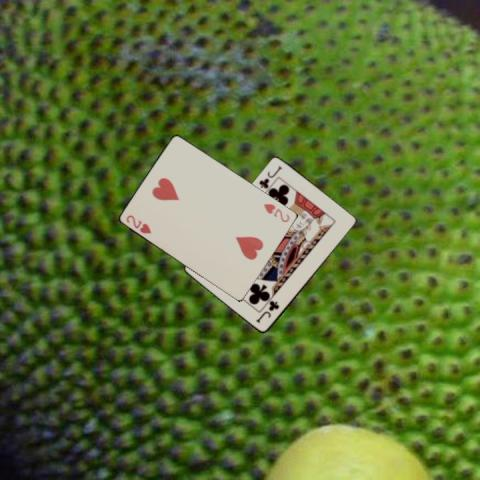2h: (260, 201, 291, 224), (123, 212, 152, 235)
Jc: (256, 163, 283, 191), (254, 298, 281, 325)
